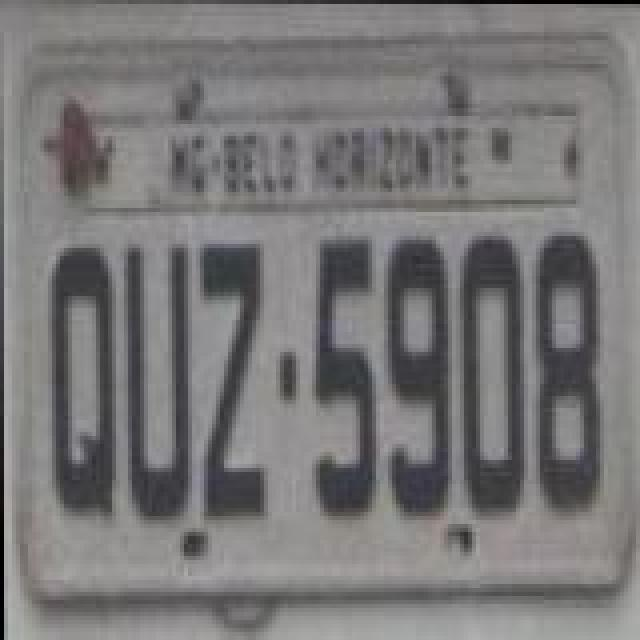5: (312, 234, 380, 530)
8: (536, 226, 604, 518)
9: (384, 232, 452, 524)
O: (456, 236, 524, 520)
Q: (48, 242, 116, 526)
U: (124, 238, 192, 530)
Z: (200, 242, 268, 522)
